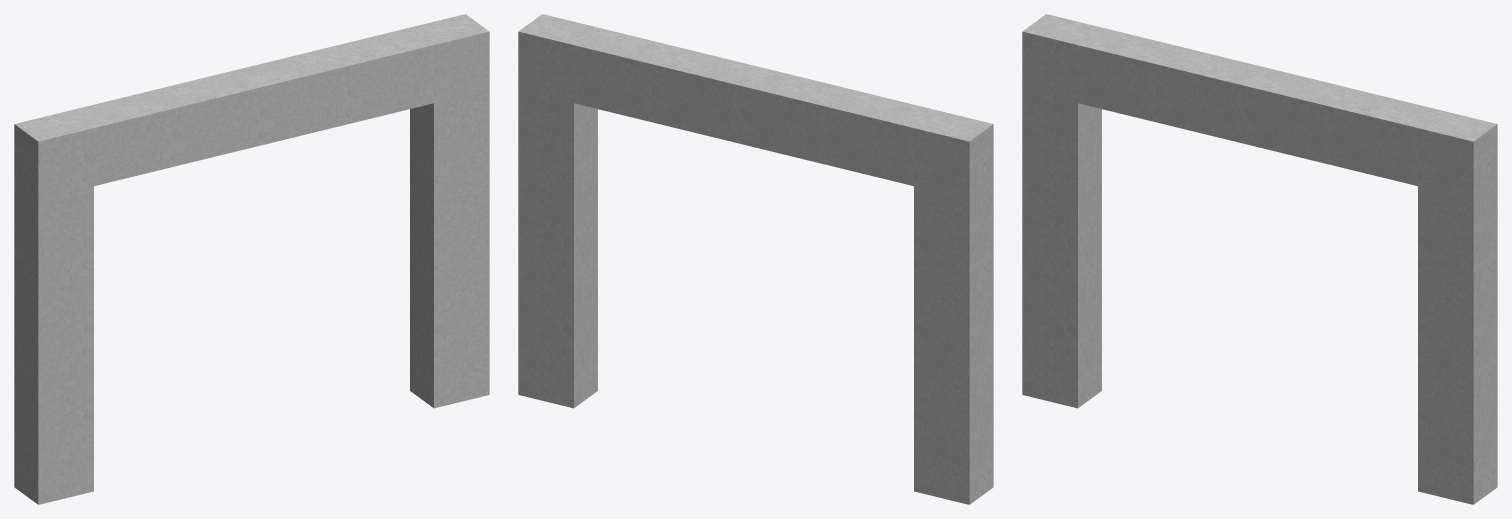
File: Arch.FBX
The picture shows the model from 3 angles, left to right: view 1: azimuth 30°, elevation 25°; view 2: azimuth 150°, elevation 25°; view 3: azimuth 330°, elevation 25°; orthographic projection.
Parts seen in each view (by area): view 1: Arch; view 2: Arch; view 3: Arch.
Boxes of the visible parts, x1,y1,x2,y2 form: Arch: (14, 14, 489, 504); Arch: (518, 14, 993, 504); Arch: (1022, 14, 1497, 504).
Bounding box in the file's own units: 3249 × 2500 × 300.
